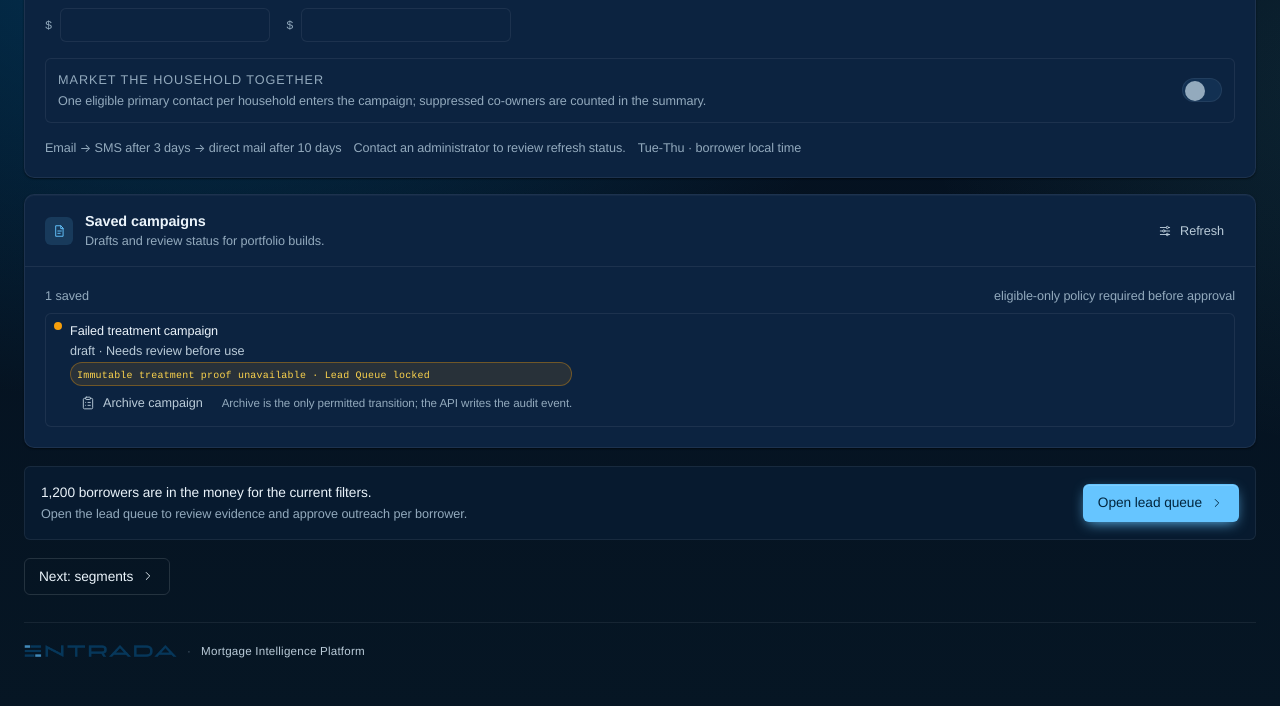
Scenario: PortfolioBuilder save-build flow › keeps a failed archive quarantine visible with accessible retry feedback
(page scrolled)
Click the button "Archive campaign" at (142, 403), box [70, 388, 214, 418]
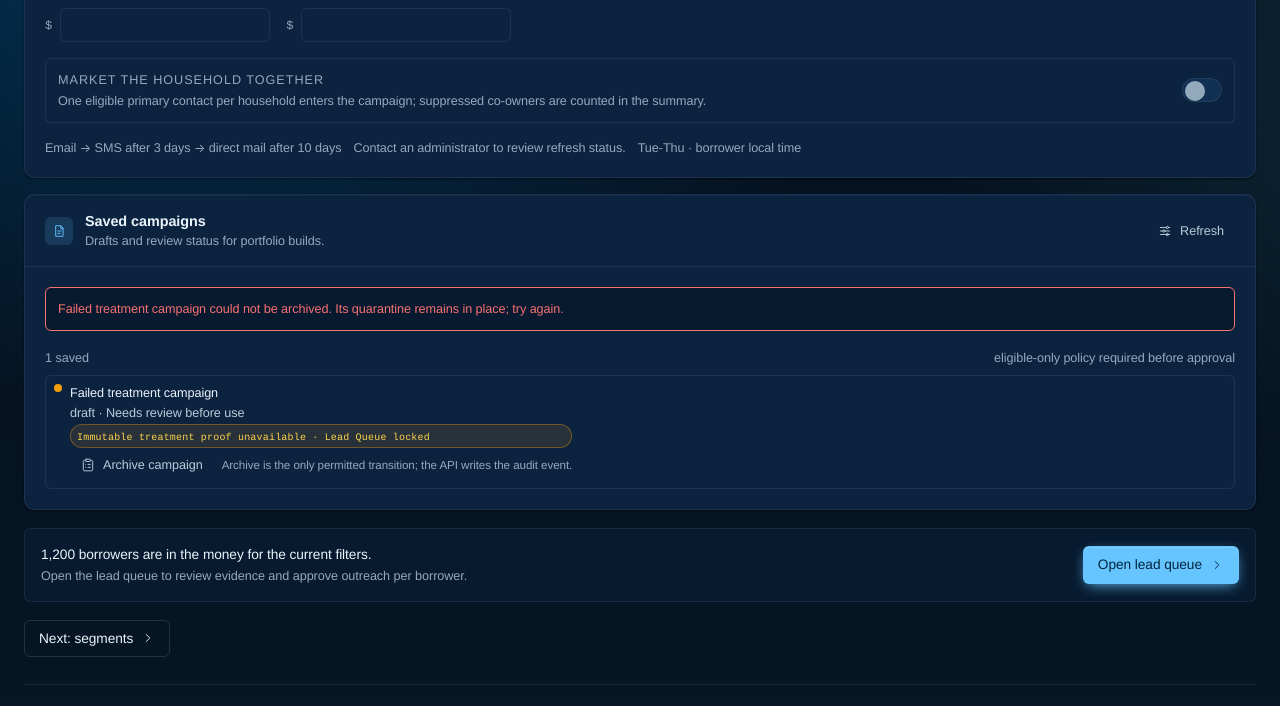
Expected: the button "Archive campaign" is shown, [70, 450, 214, 480]
Now the message with test id "campaign-archive-feedback" shows "could not be archived", box [58, 301, 564, 317]
